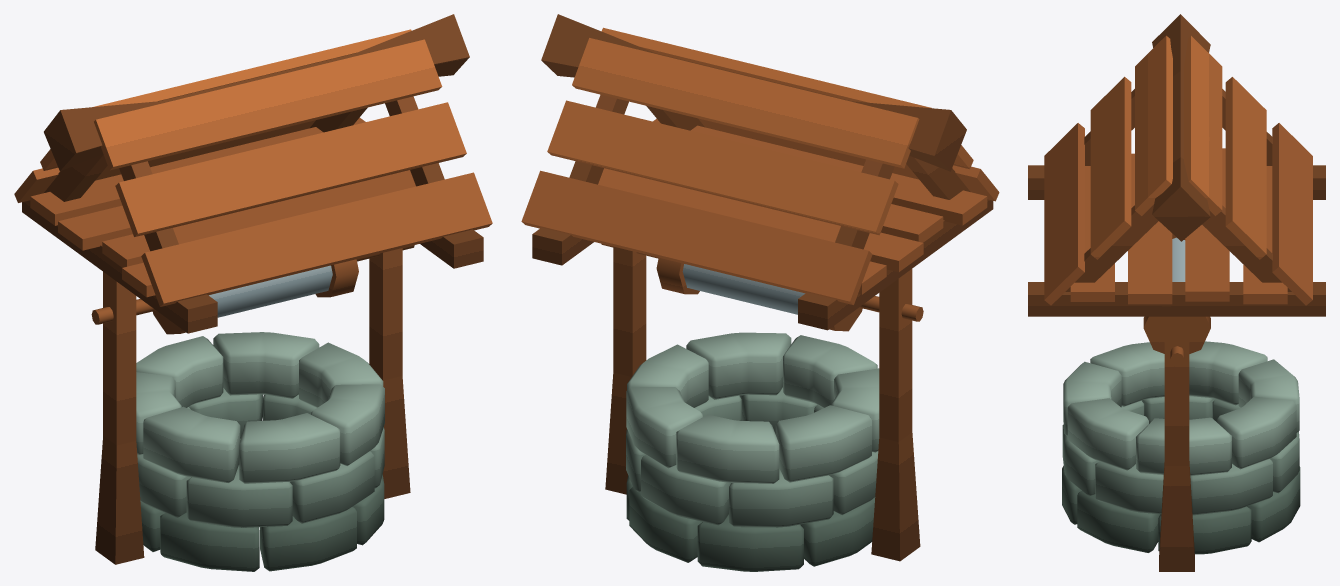
Rendered from pit.fbx.
3 renders of one model, left to right at view 1: azimuth 30°, elevation 25°; view 2: azimuth 150°, elevation 25°; view 3: azimuth 270°, elevation 25°, orthographic. The views are drawn at different scales.
Parts seen in each view (by area): view 1: Cube.026; view 2: Cube.026; view 3: Cube.026.
Boxes of the visible parts, box(x1,y1,x2,y2) form: Cube.026: box(14, 14, 492, 571); Cube.026: box(521, 14, 999, 571); Cube.026: box(1028, 14, 1325, 571).
Bounding box in the file's own units: 307 × 341 × 224.
